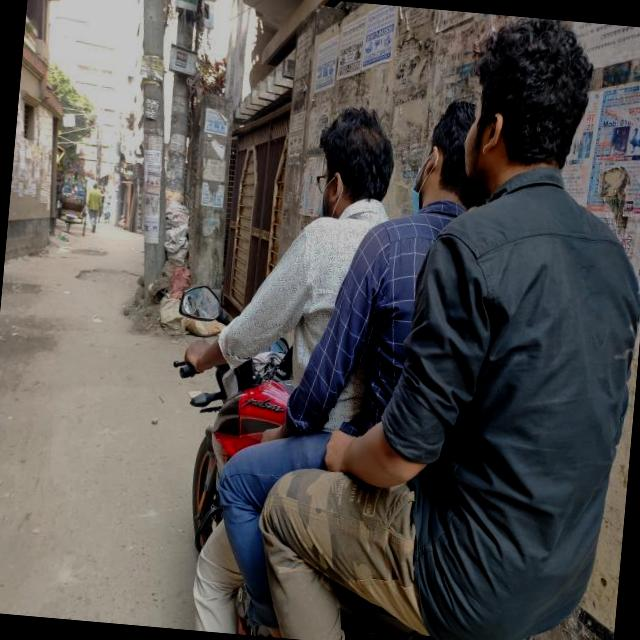motorcycle: (155, 278, 319, 562)
person: (382, 9, 640, 640), (305, 86, 522, 640), (194, 91, 403, 640)
rider_region: (149, 0, 640, 640)
